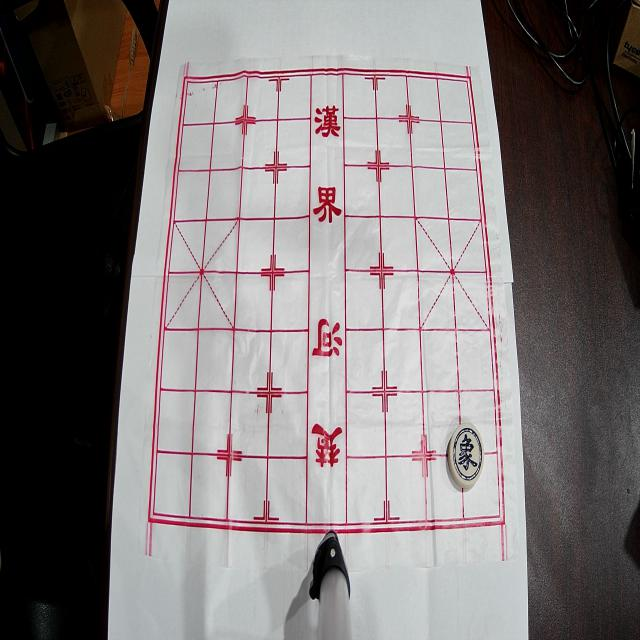black-elephant: (448, 422, 484, 488)
